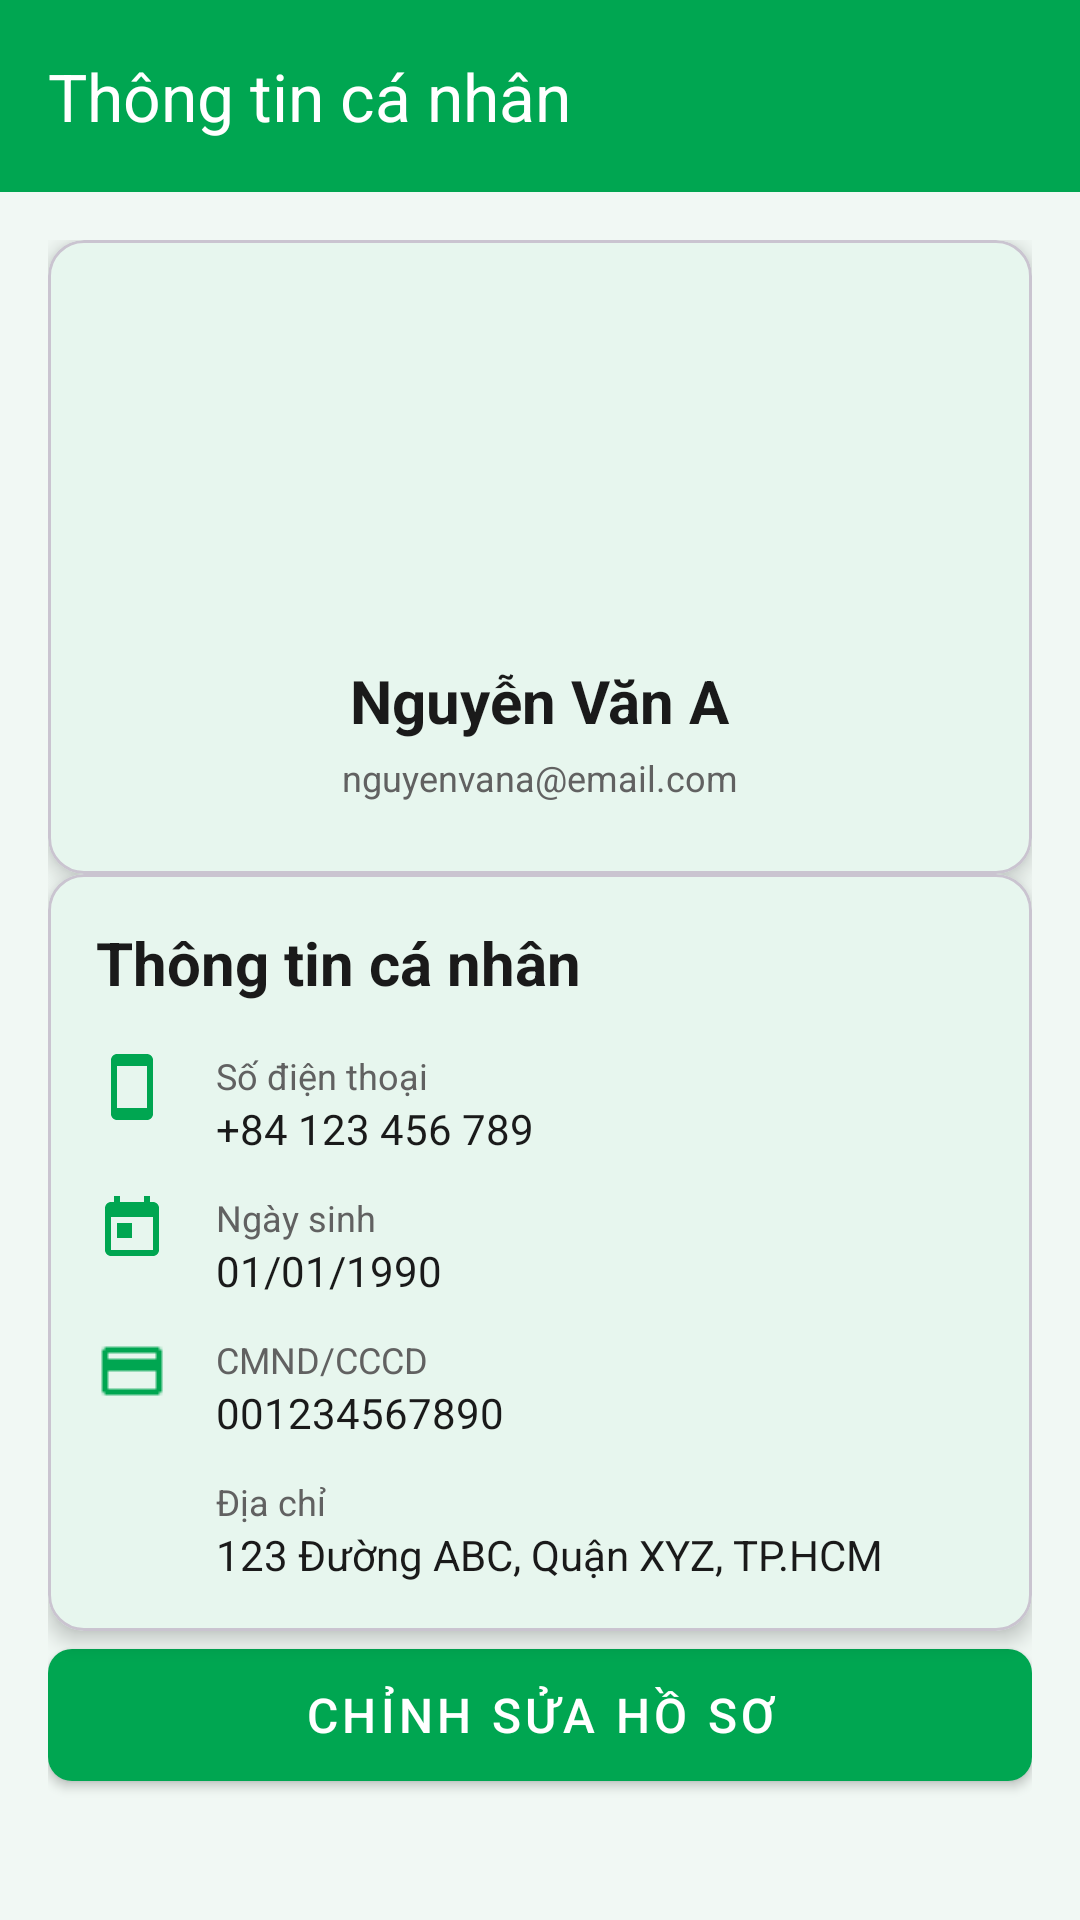

Where icons sit on this 1080×1920 app screen, as region(x1, y1, x2, y2):
calendar: region(105, 1196, 159, 1256)
card: region(101, 1346, 163, 1396)
phone: region(111, 1054, 153, 1120)
